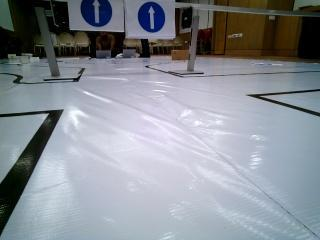straight: (125, 0, 174, 39), (72, 0, 124, 30)
